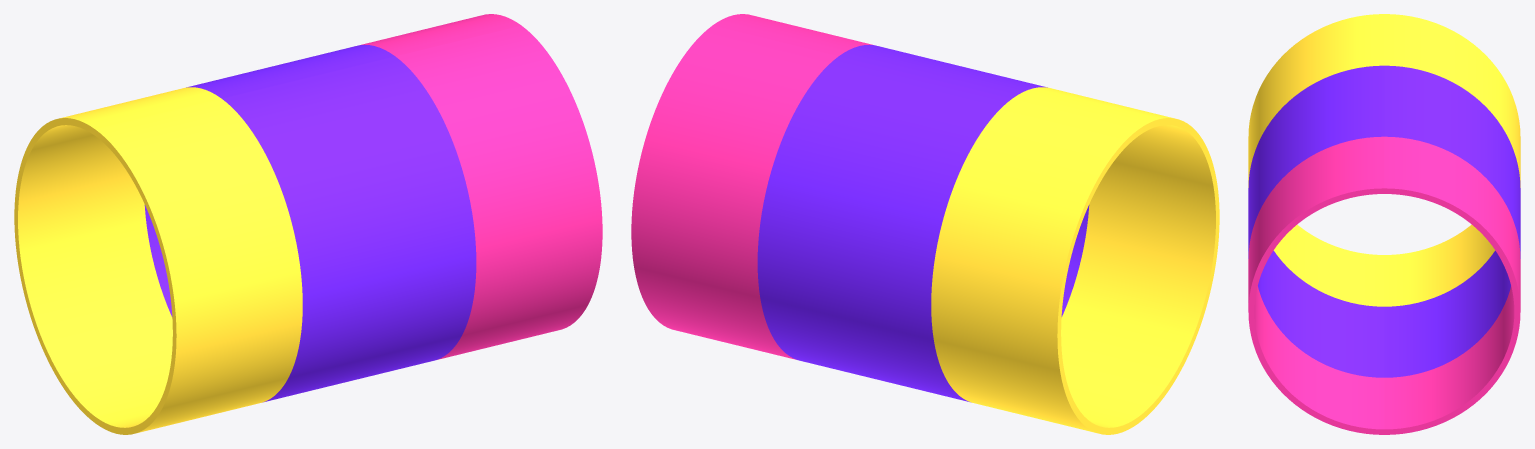
The model's file is shaft_sleeve_wear.glb.
3 renders of one model, left to right at view 1: azimuth 30°, elevation 25°; view 2: azimuth 150°, elevation 25°; view 3: azimuth 270°, elevation 25°, orthographic. The views are drawn at different scales.
Visible parts, largest first — view 1: wear__front, wear__back; view 2: wear__back, wear__front; view 3: wear__back, wear__front.
Boxes of the visible parts, box(x1,y1,x2,y2) form: wear__front: box(95, 25, 602, 434); wear__back: box(14, 14, 521, 422); wear__back: box(631, 25, 1138, 434); wear__front: box(712, 14, 1219, 422); wear__back: box(1384, 14, 1520, 434); wear__front: box(1248, 14, 1384, 434).
Bounding box in the file's own units: 0.135 × 0.089 × 0.089.
